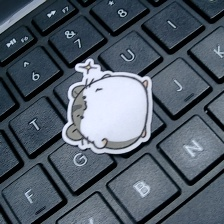mouse: (59, 56, 158, 153)
